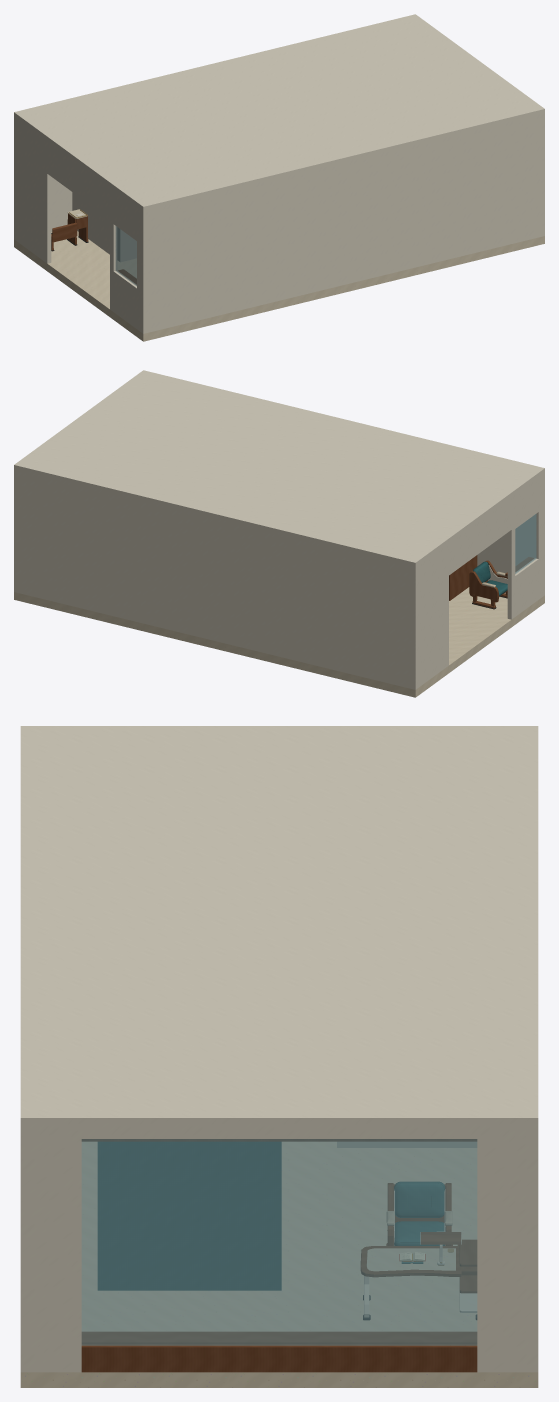
Rendered from QuietGroveSpecialty_123_r002.glb.
3 renders of one model, top to bottom at view 1: azimuth 30°, elevation 25°; view 2: azimuth 150°, elevation 25°; view 3: azimuth 270°, elevation 25°, orthographic. The views are drawn at different scales.
Parts seen in each view (by area): view 1: QG123_Ceiling, QG123_NorthSide, QG123_RoomFloor, QG123_EntryShoulderSouth, QG123_EntryHeader, QG123_StreetWindowLower, QG123_WashEntrySide, QG123_SouthSide, QG123_StreetWindowUpper, QG123_ScreenedStreetGlass; view 2: QG123_Ceiling, QG123_SouthSide, QG123_RoomFloor, QG123_EntryShoulderSouth, QG123_EntryHeader, QG123_NorthSide, QG123_StreetWindowLower, QG123_StreetWindowUpper, QG123_ScreenedStreetGlass, QG123_EntryPrivacyDogleg, QG123_QG123_StreetReadingChair__DAY_CHAIR_R_swept_walnut_che, QG123_StreetWindowInnerMullion; view 3: QG123_Ceiling, QG123_CourtPanoramicGlass, QG123_RoomFloor, QG123_Cocoon01_RearLiner, QG123_CourtJambNorth, QG123_CourtJambSouth, QG123_CourtSill, QG123_CourtHeader, QG123_CourtRevealBottom, QG123_NorthSide, QG123_SouthSide, QG123_QG123_DayReadingChair__DAY_CHAIR_single_reclined_back (+5 smaller).
Boxes of the visible parts, x1,y1,x2,y2 form: QG123_Ceiling: [14, 14, 544, 211]; QG123_NorthSide: [141, 114, 544, 333]; QG123_RoomFloor: [14, 231, 544, 341]; QG123_EntryShoulderSouth: [16, 119, 51, 263]; QG123_EntryHeader: [46, 141, 110, 219]; QG123_StreetWindowLower: [110, 269, 141, 331]; QG123_WashEntrySide: [72, 192, 123, 261]; QG123_SouthSide: [14, 117, 72, 240]; QG123_StreetWindowUpper: [110, 188, 141, 243]; QG123_ScreenedStreetGlass: [115, 226, 136, 285]; QG123_Ceiling: [14, 370, 544, 567]; QG123_SouthSide: [14, 470, 417, 689]; QG123_RoomFloor: [14, 587, 544, 697]; QG123_EntryShoulderSouth: [417, 544, 448, 687]; QG123_EntryHeader: [449, 497, 512, 575]; QG123_NorthSide: [477, 473, 544, 596]; QG123_StreetWindowLower: [507, 556, 542, 619]; QG123_StreetWindowUpper: [510, 475, 542, 531]; QG123_ScreenedStreetGlass: [515, 514, 536, 573]; QG123_EntryPrivacyDogleg: [449, 555, 477, 600]; QG123_QG123_StreetReadingChair__DAY_CHAIR_R_swept_walnut_che: [469, 571, 498, 602]; QG123_StreetWindowInnerMullion: [507, 529, 515, 578]; QG123_Ceiling: [20, 726, 538, 1128]; QG123_CourtPanoramicGlass: [81, 1139, 477, 1345]; QG123_RoomFloor: [20, 1142, 538, 1387]; QG123_Cocoon01_RearLiner: [102, 1142, 276, 1290]; QG123_CourtJambNorth: [477, 1124, 538, 1372]; QG123_CourtJambSouth: [20, 1124, 81, 1372]; QG123_CourtSill: [81, 1344, 477, 1372]; QG123_CourtHeader: [81, 1124, 477, 1138]; QG123_CourtRevealBottom: [82, 1332, 476, 1343]; QG123_NorthSide: [20, 1128, 29, 1372]; QG123_SouthSide: [529, 1128, 538, 1372]; QG123_QG123_DayReadingChair__DAY_CHAIR_single_reclined_back: [394, 1182, 444, 1217].
Bounding box in the file's own units: 12.9 × 4.14 × 7.2.
Materials: 64 (49 with a texture image).
